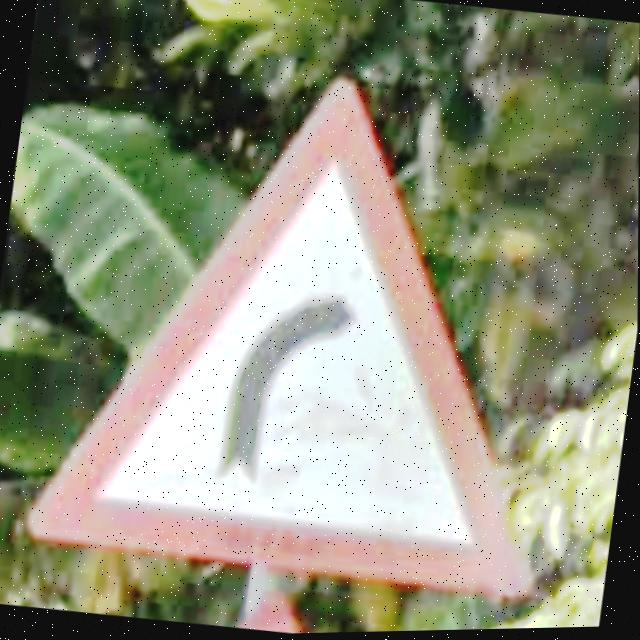rightbend: (29, 81, 534, 603)
